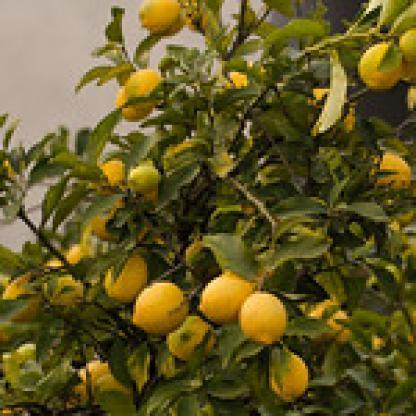lemon: (132, 280, 188, 334), (198, 272, 255, 324), (239, 291, 287, 344), (166, 314, 214, 362), (267, 350, 309, 403), (103, 254, 148, 303), (308, 88, 354, 135), (358, 42, 402, 90), (138, 0, 186, 34), (89, 199, 126, 241), (370, 154, 412, 190), (126, 68, 162, 109), (42, 274, 84, 306), (126, 159, 162, 194), (117, 86, 153, 121), (76, 359, 112, 384), (102, 158, 127, 188), (399, 28, 416, 61)
